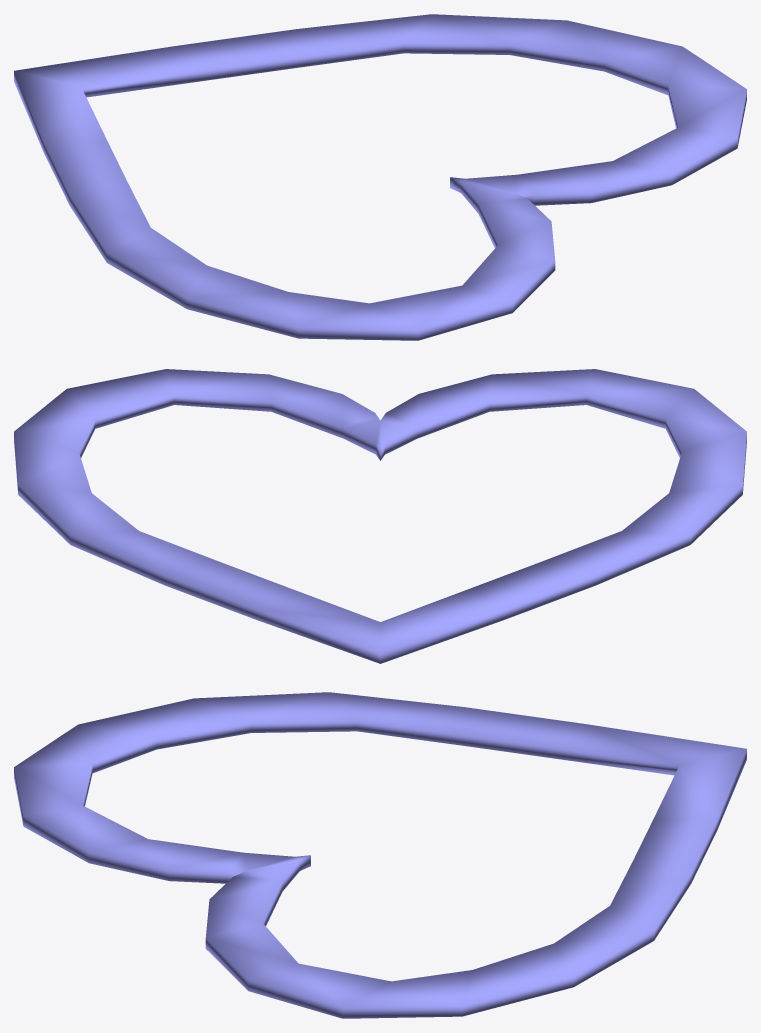
File: heart_6.fbx
The picture shows the model from 3 angles, top to bottom: view 1: azimuth 30°, elevation 25°; view 2: azimuth 150°, elevation 25°; view 3: azimuth 270°, elevation 25°; orthographic projection. The views are drawn at different scales.
Parts seen in each view (by area): view 1: heart_6; view 2: heart_6; view 3: heart_6.
Part boxes in pixels (x1,y1,x2,y2): heart_6: (14, 14, 746, 340); heart_6: (14, 369, 746, 663); heart_6: (14, 692, 746, 1018).
Size of the model in its own units: 61.85 by 1 by 60.69.
